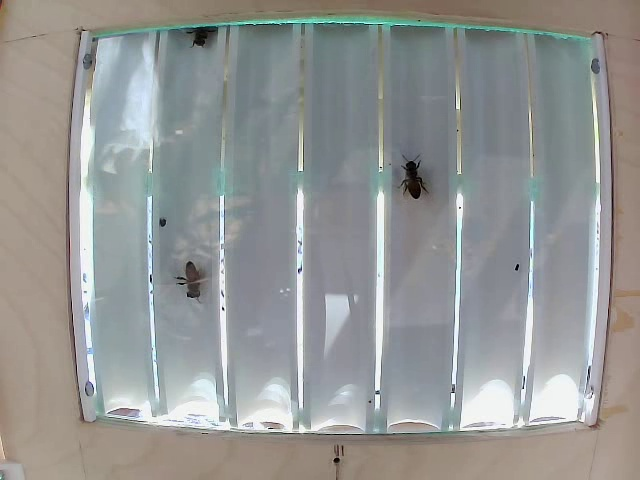bee: (392, 152, 442, 210), (171, 249, 216, 313), (178, 18, 227, 63)
